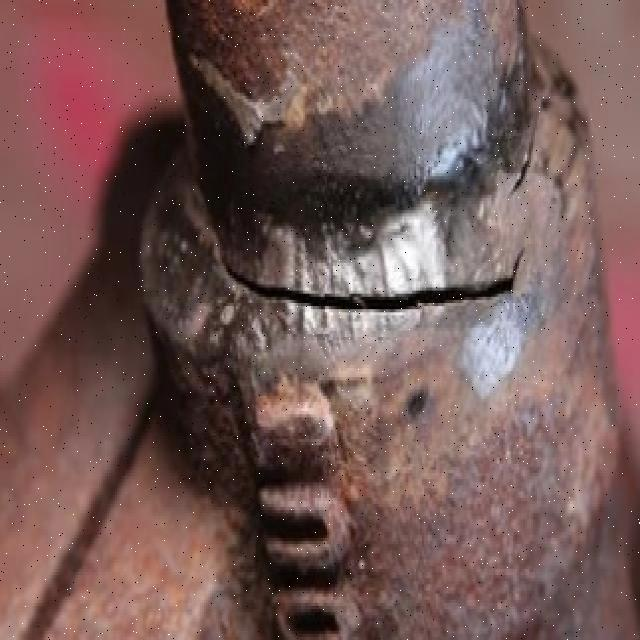Crack: (184, 76, 590, 336)
